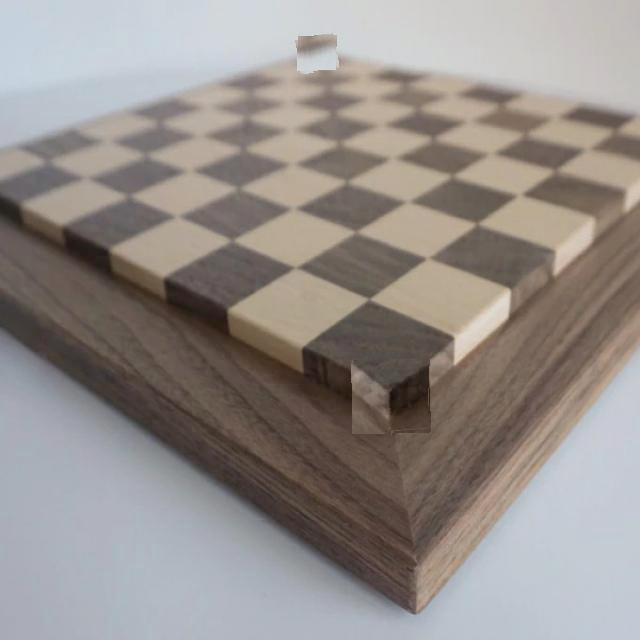chess-table-corners: (352, 359, 431, 434), (297, 34, 338, 73)
